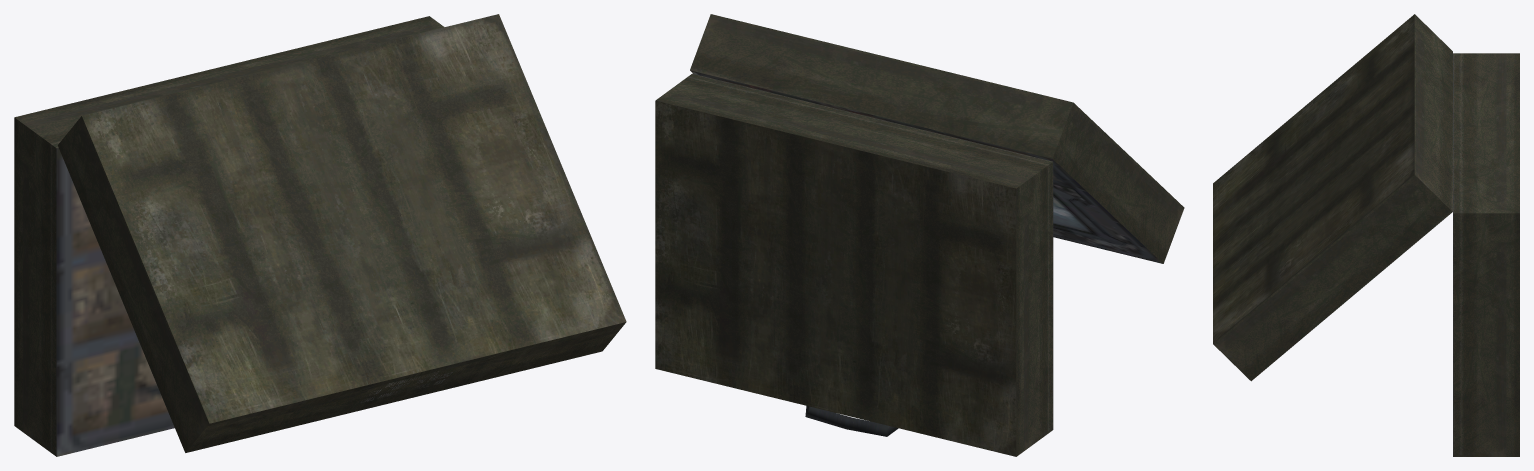
File: prop_suitcase_bomb_LOD2.obj
3 views of the same model, side by side, from view 1: azimuth 30°, elevation 25°; view 2: azimuth 150°, elevation 25°; view 3: azimuth 270°, elevation 25° (orthographic). The views are drawn at different scales.
Visible parts, largest first — view 1: mtl_t6_wpn_briefcase_bomb; view 2: mtl_t6_wpn_briefcase_bomb; view 3: mtl_t6_wpn_briefcase_bomb.
Boxes of the visible parts, x1=… form: mtl_t6_wpn_briefcase_bomb: x1=14, y1=14, x2=626, y2=456; mtl_t6_wpn_briefcase_bomb: x1=655, y1=14, x2=1184, y2=456; mtl_t6_wpn_briefcase_bomb: x1=1213, y1=14, x2=1519, y2=456.
Bounding box in the file's own units: 53.45 × 47.06 × 43.02.
